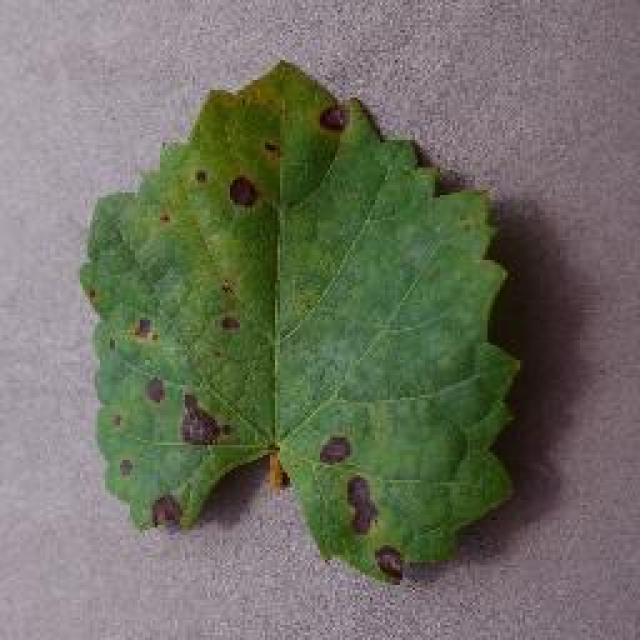Grape___Black_rot: (67, 57, 527, 593)
